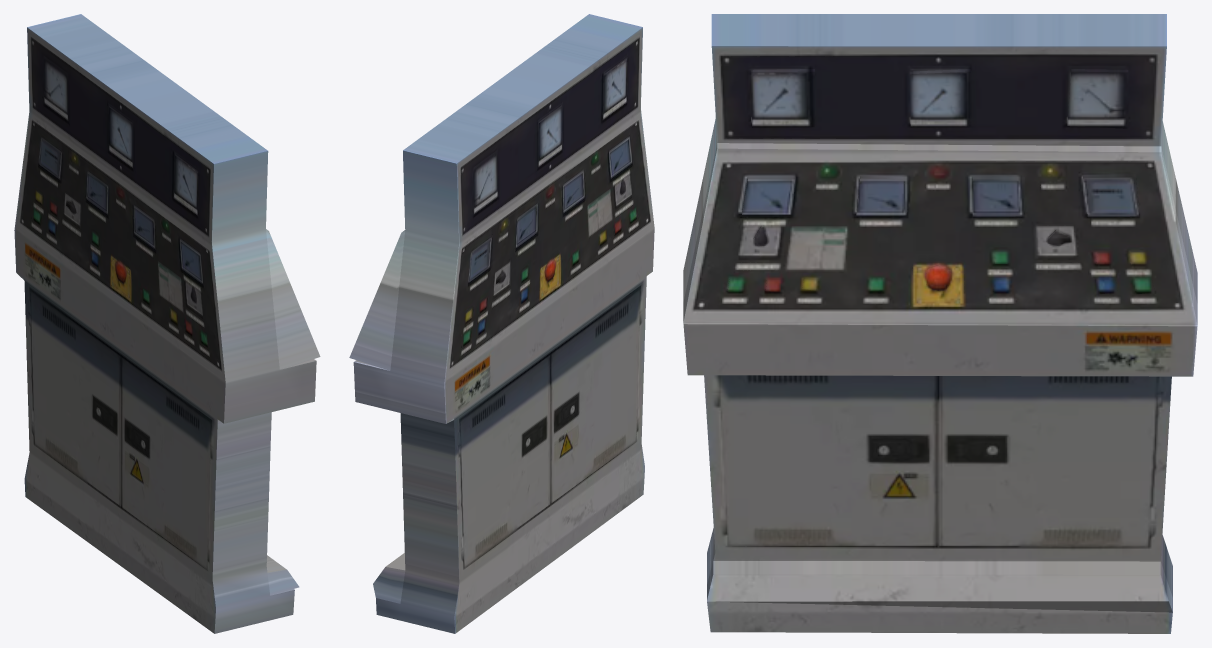
The model's file is control_panel1.fbx.
3 renders of one model, left to right at view 1: azimuth 30°, elevation 25°; view 2: azimuth 150°, elevation 25°; view 3: azimuth 270°, elevation 25°, orthographic. The views are drawn at different scales.
Visible parts, largest first — view 1: Skjermbilde 2023-11-17 092747; view 2: Skjermbilde 2023-11-17 092747; view 3: Skjermbilde 2023-11-17 092747.
Part boxes in pixels (box(x1,y1,x2,y2)): Skjermbilde 2023-11-17 092747: box(14, 14, 320, 633); Skjermbilde 2023-11-17 092747: box(349, 14, 654, 633); Skjermbilde 2023-11-17 092747: box(683, 14, 1197, 633).
Size of the model in its own units: 320 by 1509 by 1227.
Materials: 1 (1 with a texture image).
